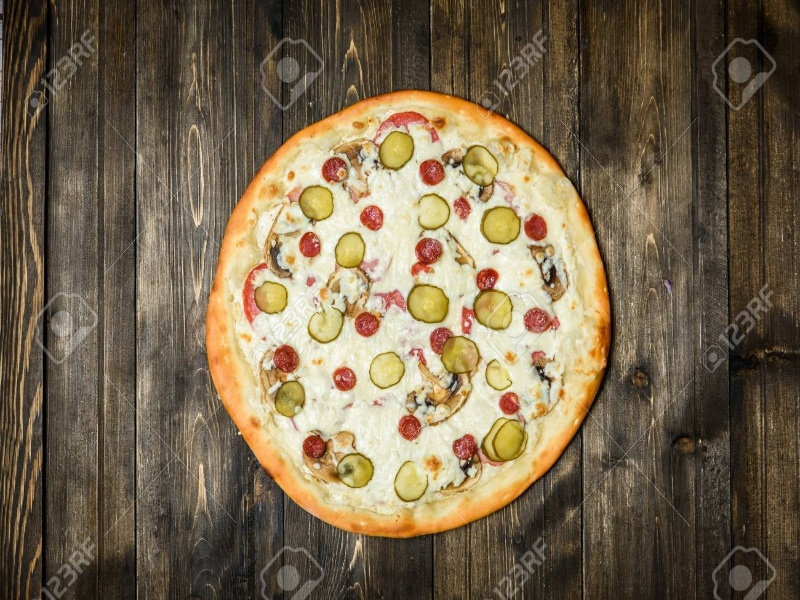pepperonis: (409, 236, 448, 265), (519, 213, 554, 244), (524, 302, 554, 335), (273, 343, 304, 374), (328, 363, 360, 393), (449, 433, 482, 462), (355, 205, 389, 232), (417, 156, 446, 187), (301, 436, 334, 462), (297, 231, 326, 260), (497, 390, 526, 418), (397, 412, 423, 441), (321, 157, 347, 186), (356, 311, 381, 338)
